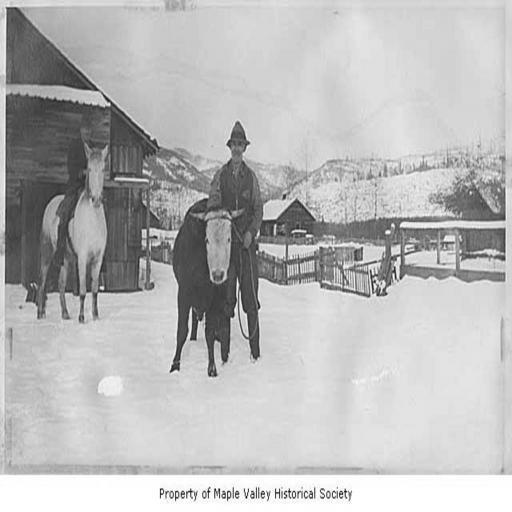horse: (36, 144, 110, 326)
